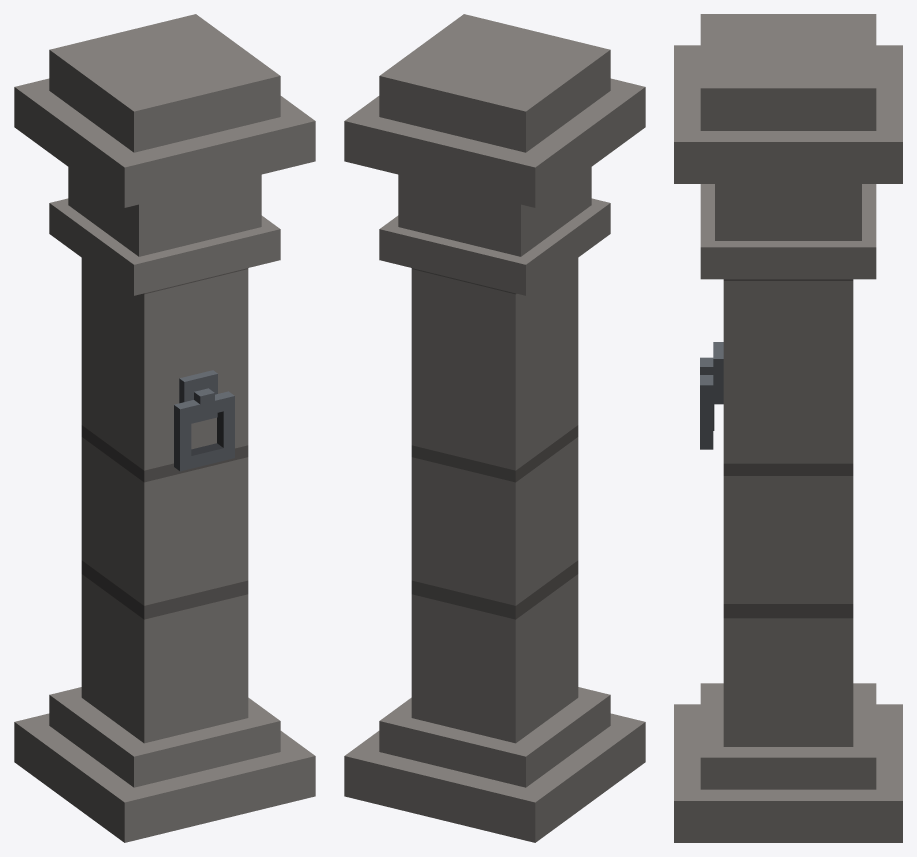
Rendered from SD_Env_Pillar_Stone_02.fbx.
3 views of the same model, side by side, from view 1: azimuth 30°, elevation 25°; view 2: azimuth 150°, elevation 25°; view 3: azimuth 270°, elevation 25° (orthographic). The views are drawn at different scales.
Visible parts, largest first — view 1: SD_Env_Pillar_Stone_02; view 2: SD_Env_Pillar_Stone_02; view 3: SD_Env_Pillar_Stone_02.
Part boxes in pixels (x1=…): SD_Env_Pillar_Stone_02: x1=14, y1=14, x2=315, y2=842; SD_Env_Pillar_Stone_02: x1=344, y1=14, x2=645, y2=842; SD_Env_Pillar_Stone_02: x1=674, y1=14, x2=902, y2=842.
Bounding box in the file's own units: 13.96 × 50.1 × 13.96.
